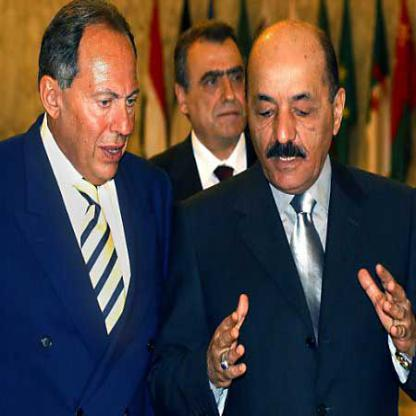face: (247, 22, 336, 193), (60, 10, 145, 185), (185, 24, 254, 146)
